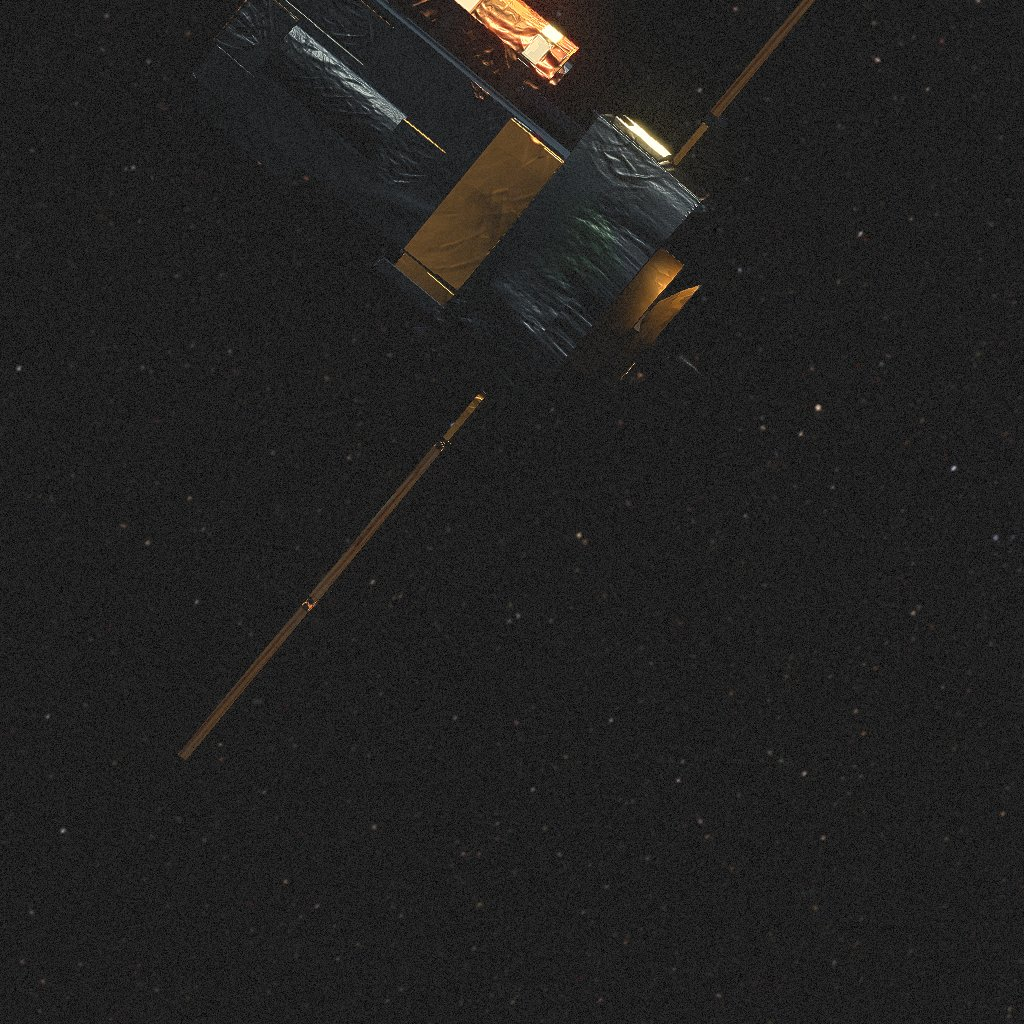soho: (178, 0, 819, 761)
